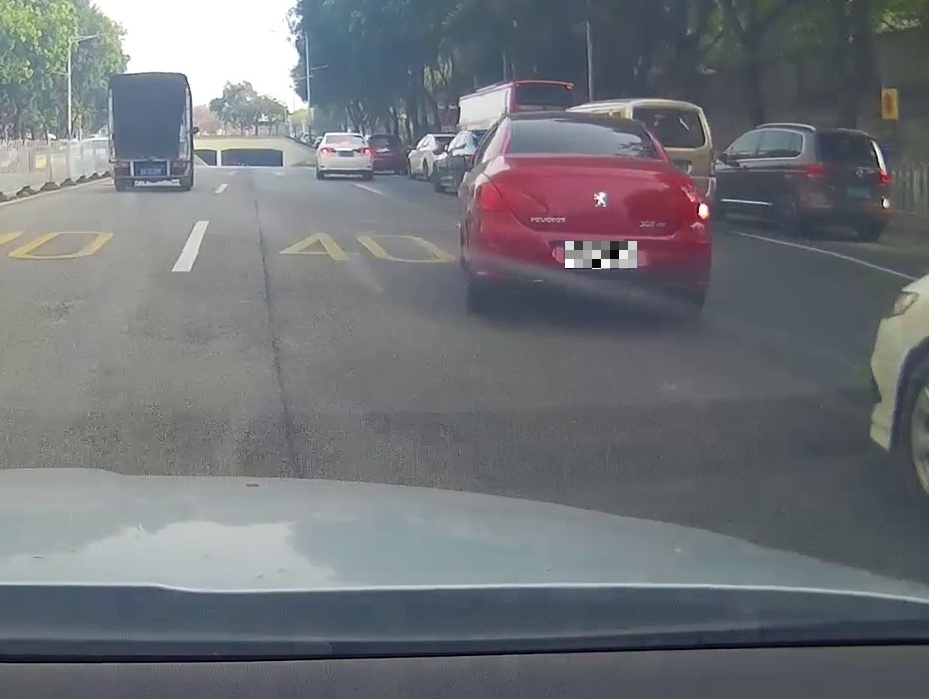L_light: (478, 181, 547, 214), (805, 164, 827, 179), (320, 147, 336, 154), (114, 162, 128, 169)
R_light: (678, 195, 710, 224), (874, 170, 890, 183), (355, 147, 371, 155), (172, 161, 186, 168)
T_light: (565, 115, 596, 123), (841, 133, 857, 138), (141, 151, 156, 156), (341, 142, 350, 144)
day-brake: (317, 132, 374, 181)
day-no: (108, 71, 191, 192), (803, 128, 891, 241)
day-right: (473, 111, 712, 320)
plate_1: (565, 241, 637, 269)
